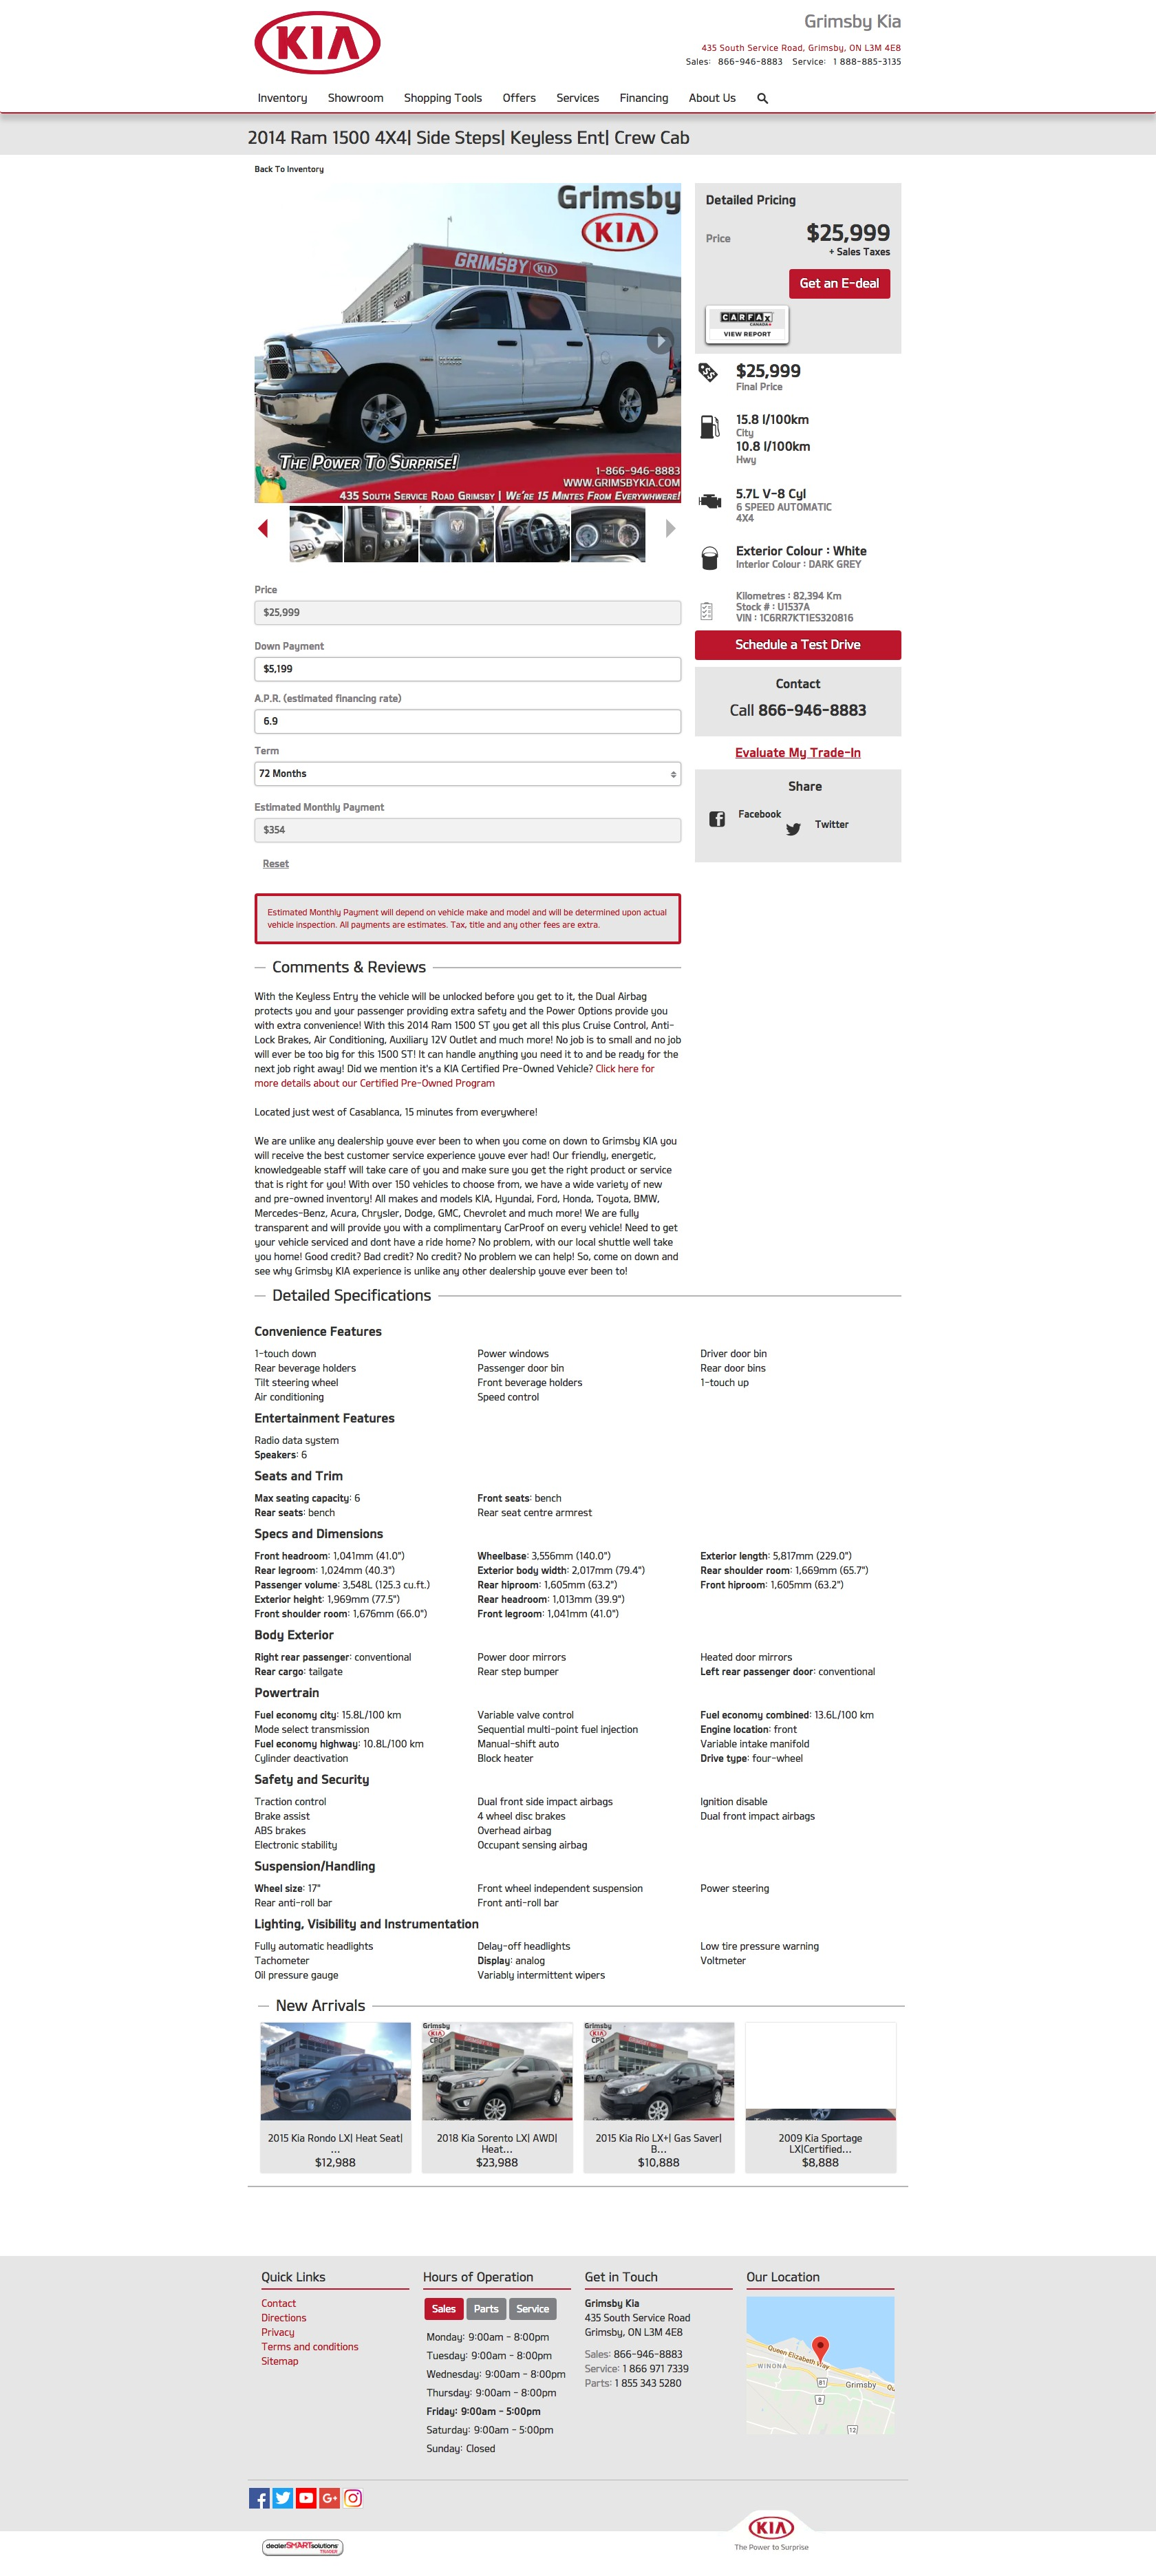car: (667, 519, 677, 539)
